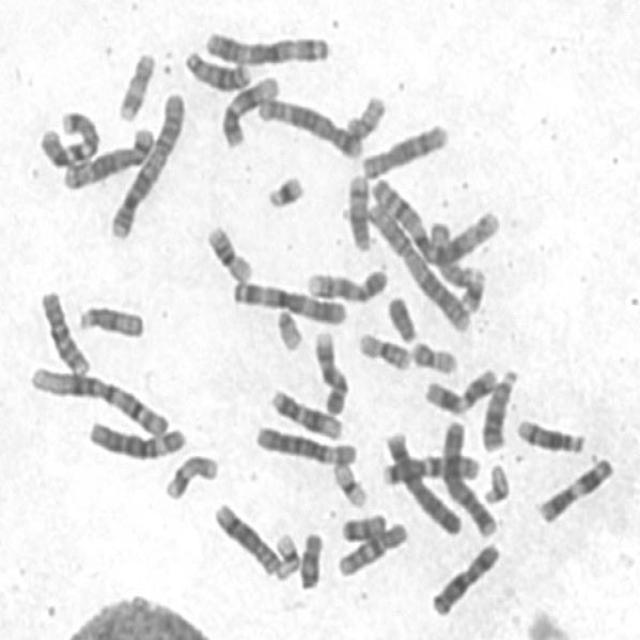A1: (366, 170, 504, 267), (24, 358, 173, 440)
A2: (361, 189, 473, 335), (103, 84, 187, 240)
A3: (226, 272, 350, 326), (199, 22, 332, 66)
B4: (379, 423, 464, 537), (436, 413, 499, 538)
B5: (252, 91, 363, 160), (57, 118, 157, 192)
C10: (34, 282, 91, 377), (332, 514, 411, 580)
C11: (531, 448, 617, 526), (419, 360, 500, 416)
C12: (216, 68, 282, 149), (264, 380, 345, 441)
C6: (82, 412, 189, 462), (250, 418, 359, 466)
C7: (32, 102, 102, 170), (375, 447, 483, 488)
C8: (207, 495, 284, 578), (356, 116, 451, 180)
C9: (300, 260, 390, 304), (308, 324, 350, 417)
D13: (476, 360, 522, 452), (178, 43, 254, 92)
D14: (510, 411, 588, 455), (341, 166, 375, 252)
D15: (425, 213, 479, 288), (72, 297, 146, 340)
E16: (201, 218, 254, 283), (352, 325, 413, 372)
E17: (111, 43, 157, 123), (158, 447, 220, 503)
E18: (293, 524, 326, 591), (335, 506, 388, 543)
F19: (328, 454, 370, 509), (268, 525, 302, 581)
F20: (341, 88, 388, 141), (405, 334, 460, 375)
G21: (260, 167, 306, 210), (454, 260, 488, 314)
G22: (270, 301, 306, 353), (478, 456, 512, 507)
X: (424, 536, 502, 618)
Y: (381, 288, 420, 342)
